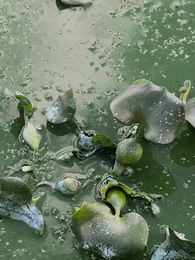water_hyacinth: (0, 71, 195, 260)
